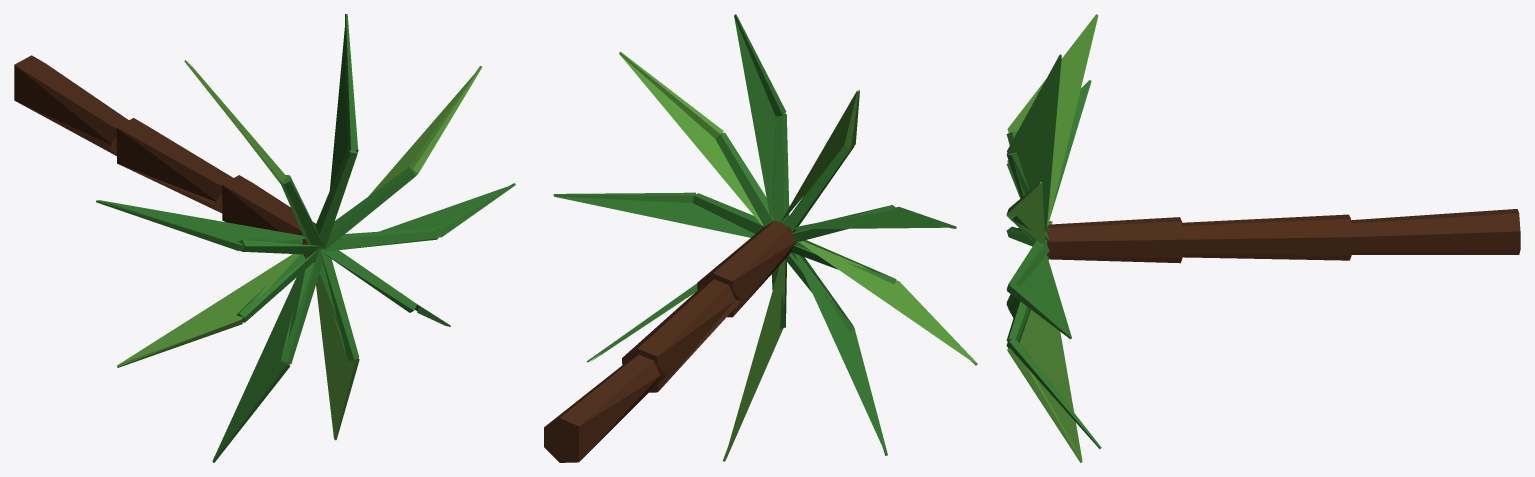
The model's file is palm_lowpoly.obj.
The picture shows the model from 3 angles, left to right: view 1: azimuth 30°, elevation 25°; view 2: azimuth 150°, elevation 25°; view 3: azimuth 270°, elevation 25°; orthographic projection. The views are drawn at different scales.
Visible parts, largest first — view 1: Palm; view 2: Palm; view 3: Palm.
Part boxes in pixels (bbox=[...]): Palm: bbox=[14, 14, 515, 462]; Palm: bbox=[544, 14, 977, 462]; Palm: bbox=[1006, 14, 1520, 462].
Size of the model in its own units: 2.63 by 2.67 by 3.04.
